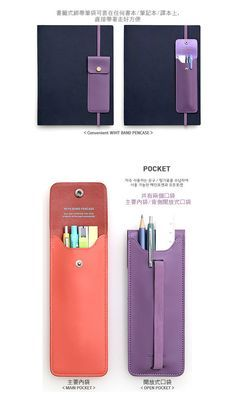cuero: (48, 182, 185, 376)
